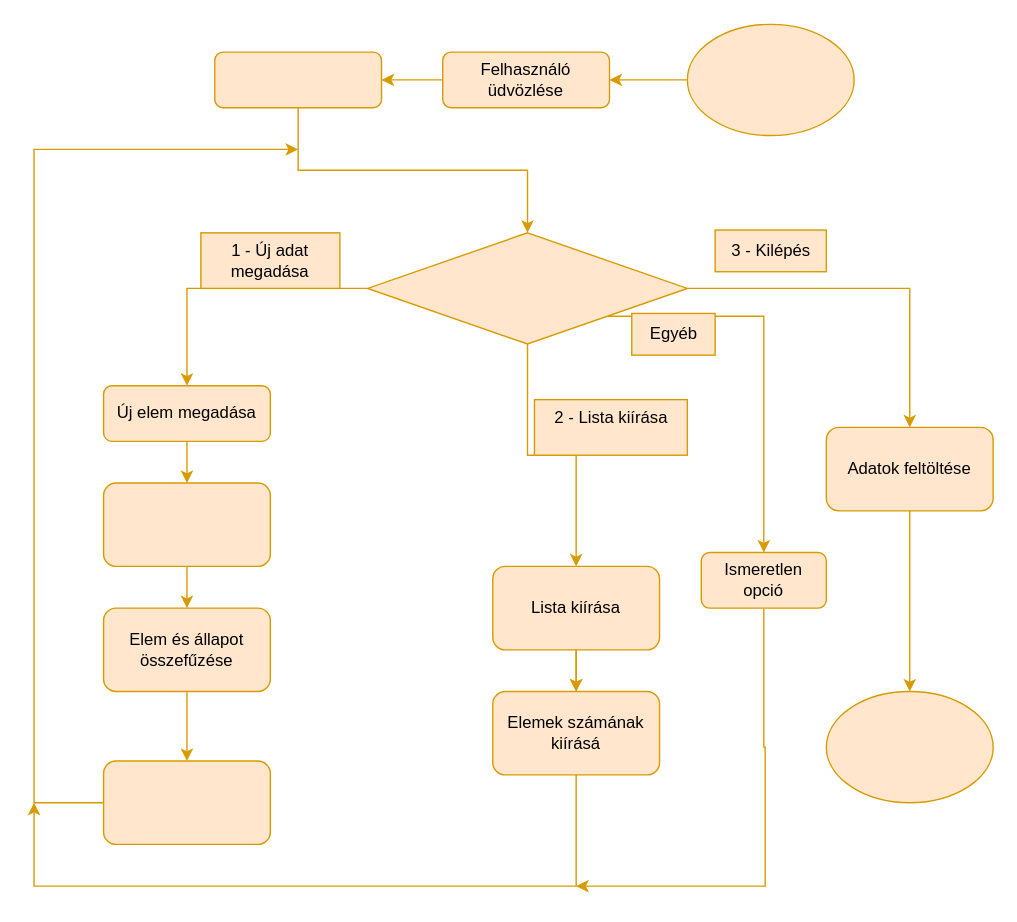
Image size: 1017x922. Some labels were removed from this diagram. Each missing label, with the box of its shape:
Adatbekérési szándék jelzése: (213, 51, 382, 108)
END: (825, 690, 993, 803)
Listába helyezés: (102, 760, 270, 844)
START: (686, 23, 854, 136)
Válasszon 1-2-3 Közül: (366, 231, 687, 344)
Állapot megadása: (102, 482, 270, 566)
